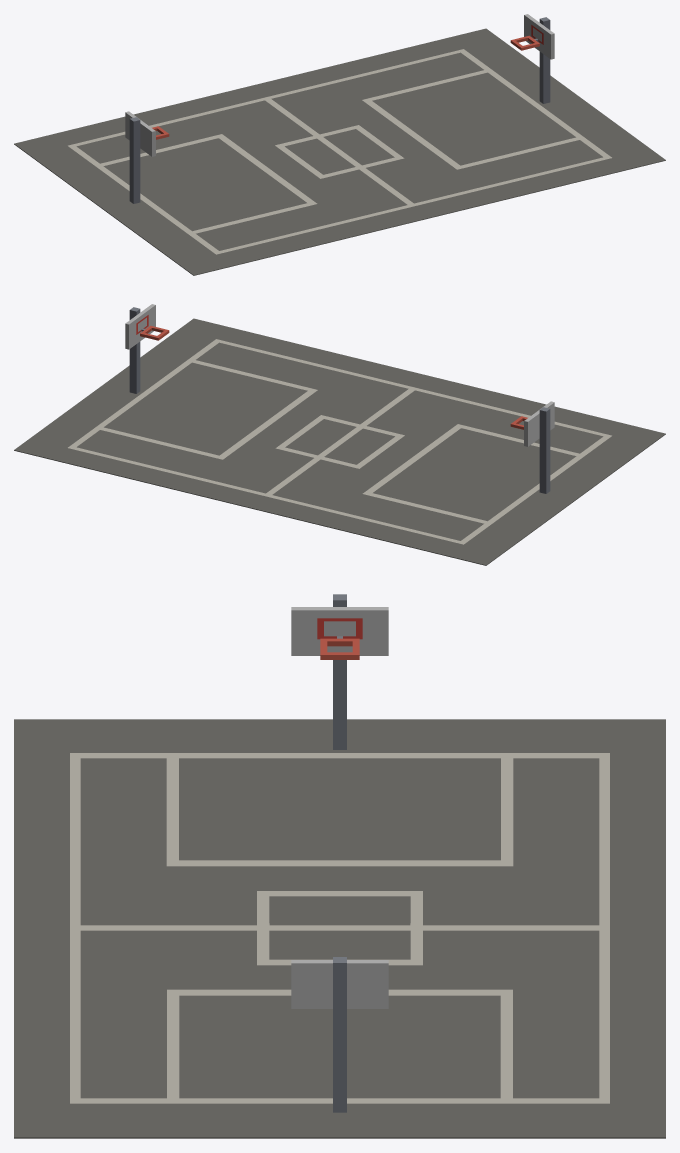
Rendered from basketball_court.glb.
The picture shows the model from 3 angles, top to bottom: view 1: azimuth 30°, elevation 25°; view 2: azimuth 150°, elevation 25°; view 3: azimuth 270°, elevation 25°; orthographic projection. The views are drawn at different scales.
Parts seen in each view (by area): view 1: SC_Prop_BasketballCourt_0; view 2: SC_Prop_BasketballCourt_0; view 3: SC_Prop_BasketballCourt_0.
Boxes of the visible parts, x1=… form: SC_Prop_BasketballCourt_0: x1=14, y1=14, x2=665, y2=275; SC_Prop_BasketballCourt_0: x1=14, y1=304, x2=665, y2=565; SC_Prop_BasketballCourt_0: x1=14, y1=594, x2=665, y2=1138.
Bounding box in the file's own units: 25.31 × 4.26 × 16.69.
Materials: 1 (1 with a texture image).
